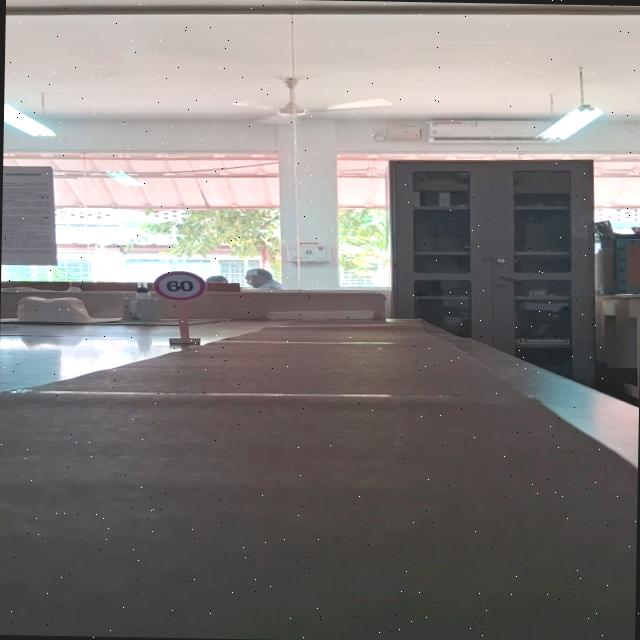Speed60: (151, 270, 209, 302)
